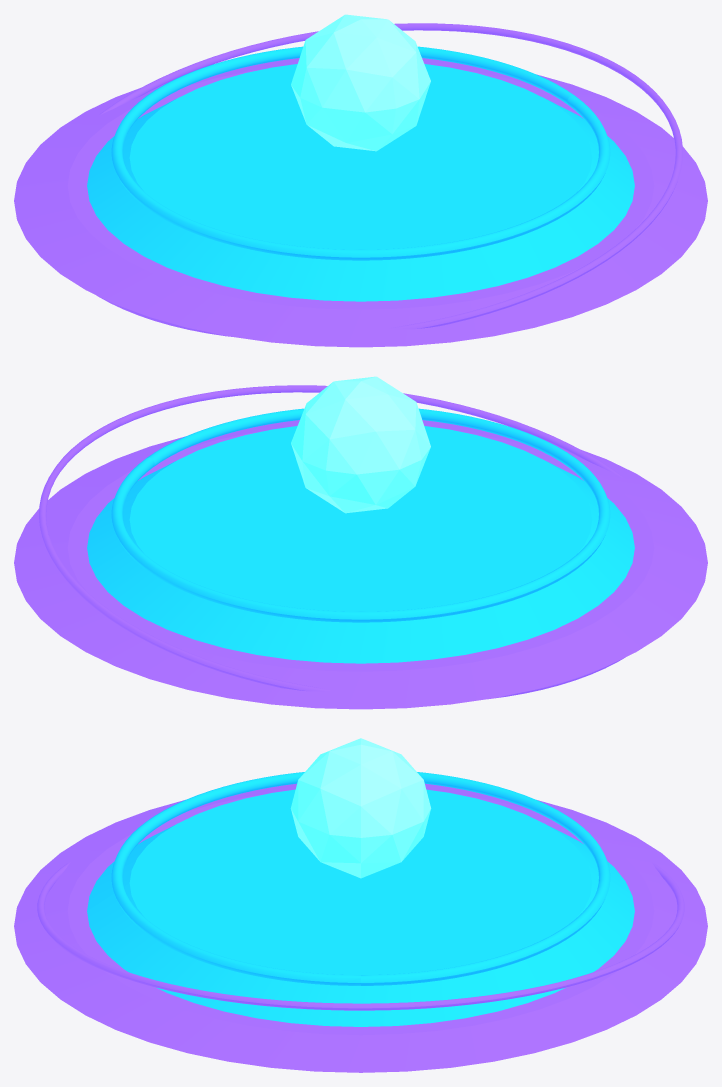
File: dashboard-data-universe.glb
3 views of the same model, one above another, from view 1: azimuth 30°, elevation 25°; view 2: azimuth 150°, elevation 25°; view 3: azimuth 270°, elevation 25° (orthographic).
Visible parts, largest first — view 1: AssetPlatform, AssetLowerDeck, AssetCoreShell, AssetRingPrimary, AssetRingSecondary; view 2: AssetPlatform, AssetLowerDeck, AssetCoreShell, AssetRingPrimary, AssetRingSecondary; view 3: AssetPlatform, AssetLowerDeck, AssetCoreShell, AssetRingPrimary, AssetRingSecondary.
Part boxes in pixels (box(x1,y1,x2,y2)): AssetPlatform: box(87, 64, 634, 301); AssetLowerDeck: box(14, 58, 707, 347); AssetCoreShell: box(291, 14, 430, 151); AssetRingPrimary: box(111, 46, 610, 260); AssetRingSecondary: box(96, 23, 682, 336); AssetPlatform: box(87, 426, 634, 663); AssetLowerDeck: box(14, 420, 707, 709); AssetCoreShell: box(291, 376, 430, 513); AssetRingPrimary: box(111, 408, 610, 622); AssetRingSecondary: box(39, 385, 625, 699); AssetPlatform: box(87, 789, 634, 1026); AssetLowerDeck: box(14, 783, 707, 1072); AssetCoreShell: box(290, 738, 431, 878); AssetRingPrimary: box(111, 772, 610, 985); AssetRingSecondary: box(37, 862, 684, 1010).
Size of the model in its own units: 3.36 by 1.07 by 3.36.
